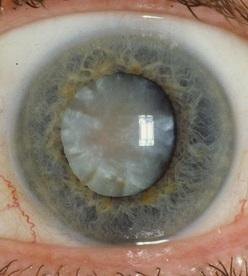eye: (17, 31, 234, 245)
